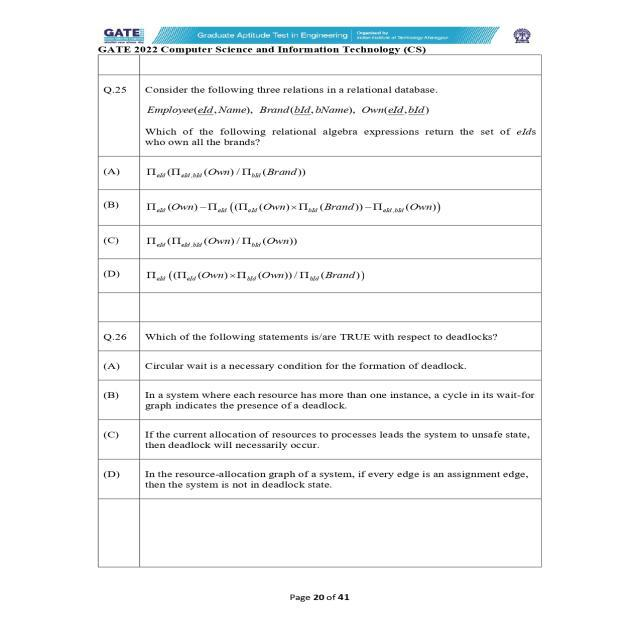Answer_Block: (98, 350, 541, 498), (98, 156, 542, 294)
Question_Answer_Block: (97, 74, 541, 292), (99, 322, 542, 498)
Question_Block: (98, 75, 542, 156), (98, 322, 541, 350)
Question_Paper_Area: (98, 76, 541, 500)
